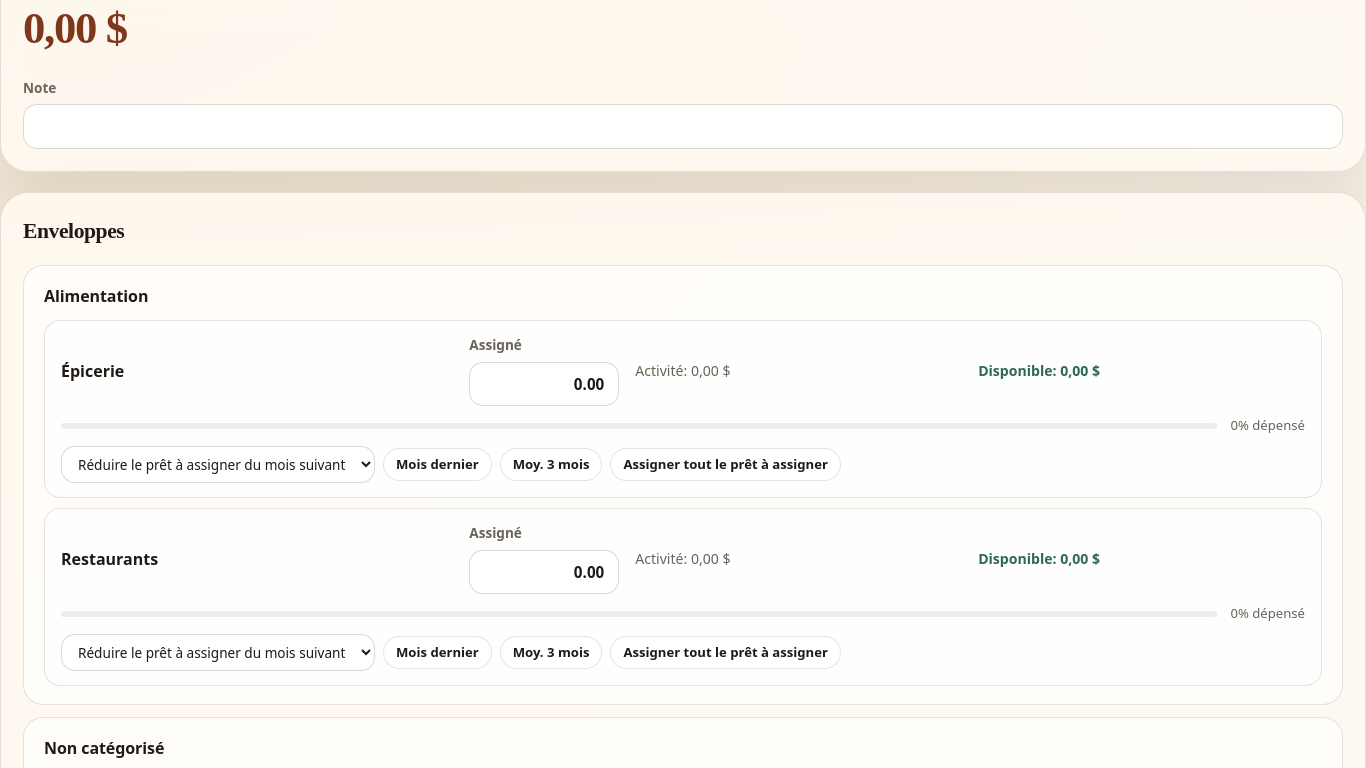
Scenario: FinanceBudgetPage › queues a same-field clear while an earlier assignment save is pending
(page scrolled)
Replace the text in the field labelled "Assigné" in the row of "Épicerie" with "50": (544, 384) [469,362,619,406]
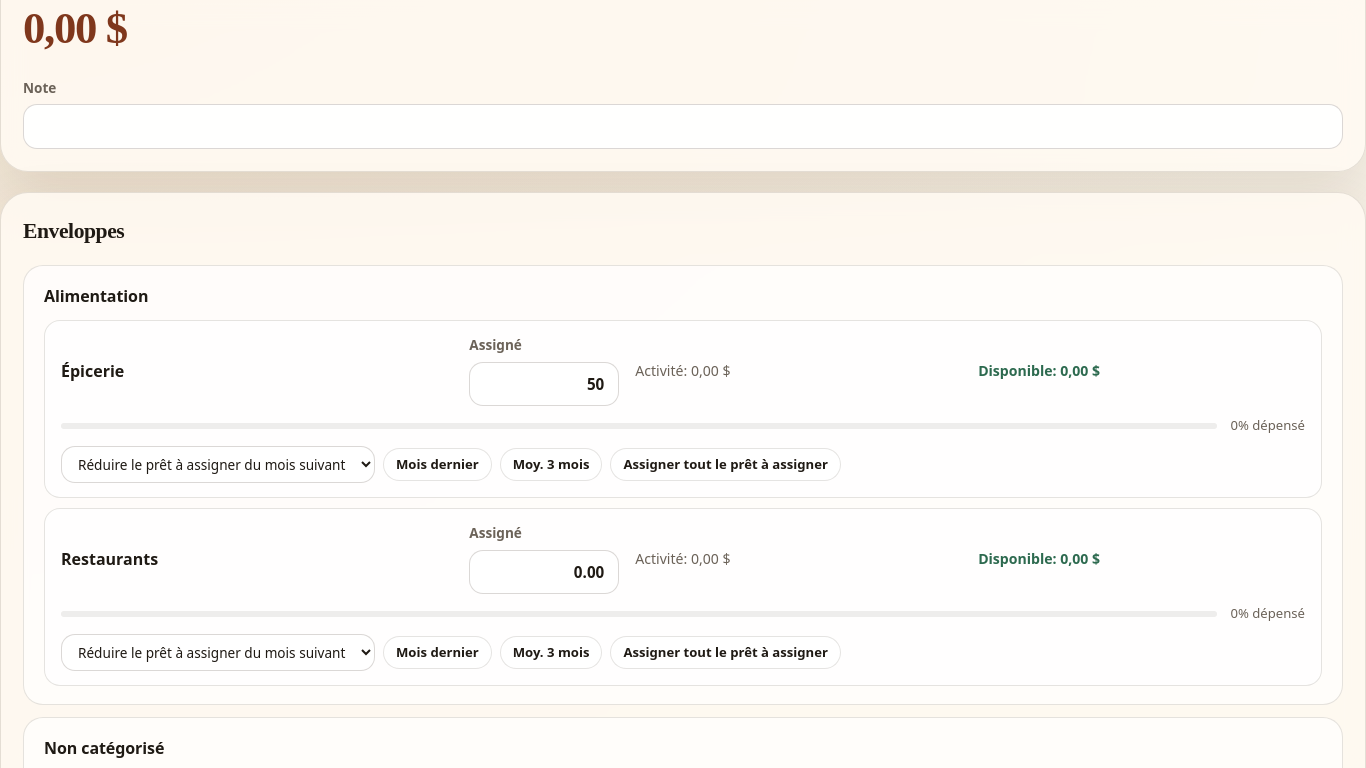
Replace the text in the field labelled "Assigné" in the row of "Épicerie" with "0": (544, 384) [469,362,619,406]
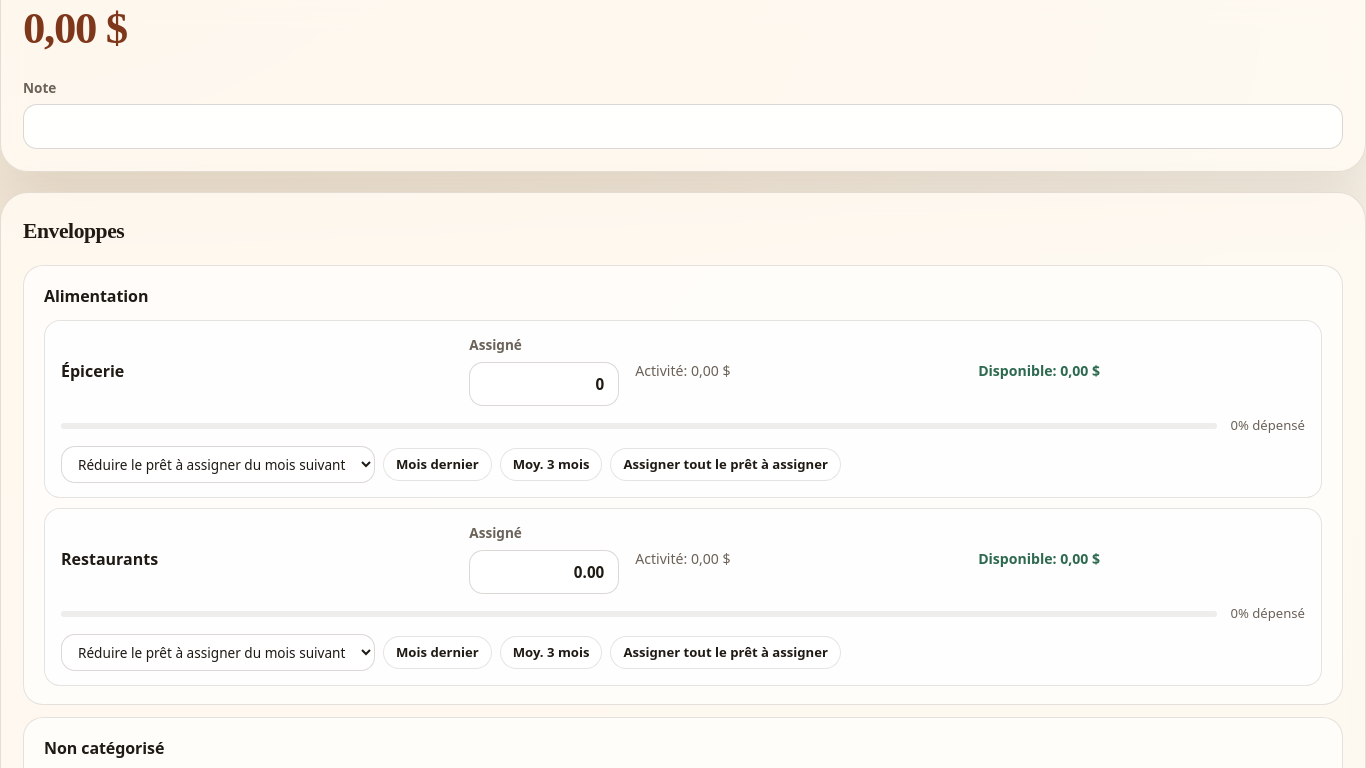
Leave the field labelled "Assigné" in the row of "Épicerie", box [469,362,619,406]
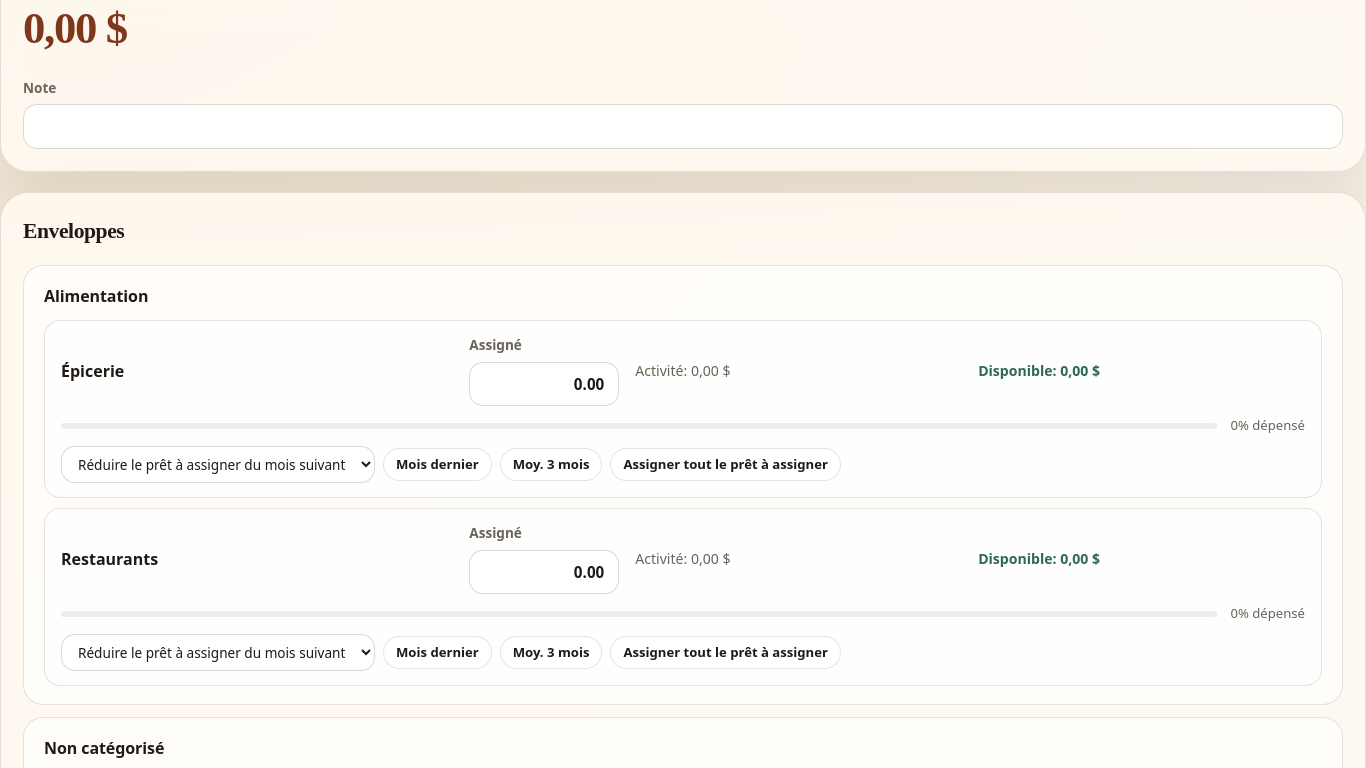
Result: the field labelled "Assigné" in the row of "Épicerie" holds "0.00" at [469,362,619,406]
